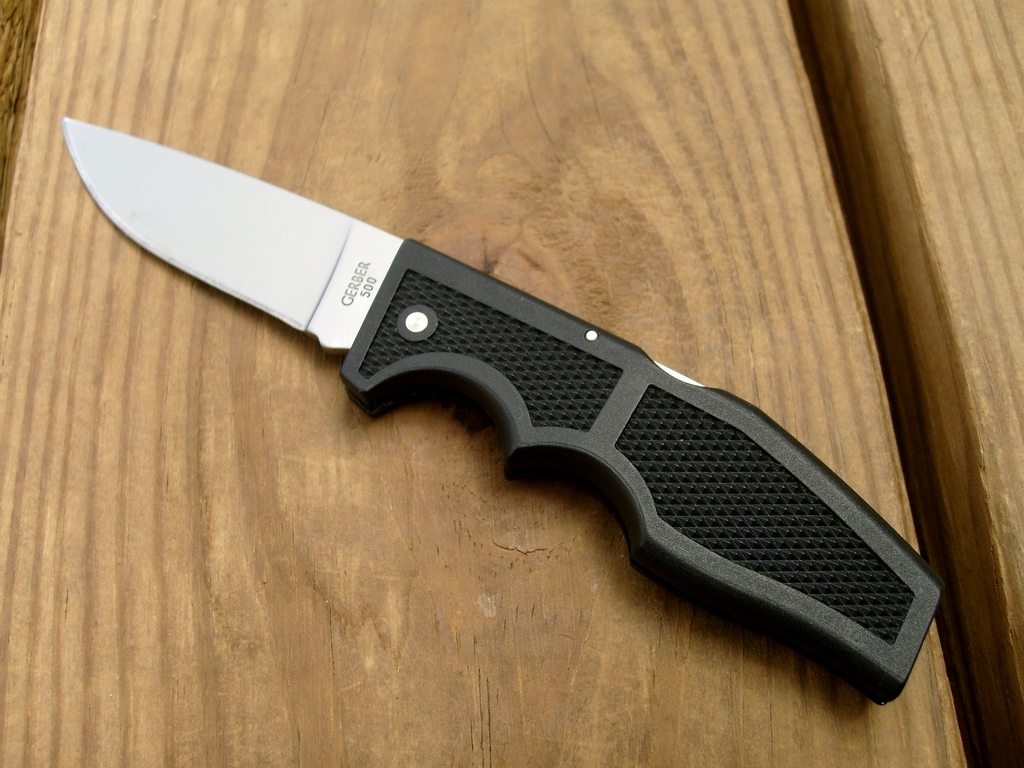knife: (62, 116, 946, 706)
